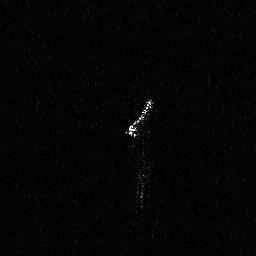ship: (125, 97, 159, 139)
